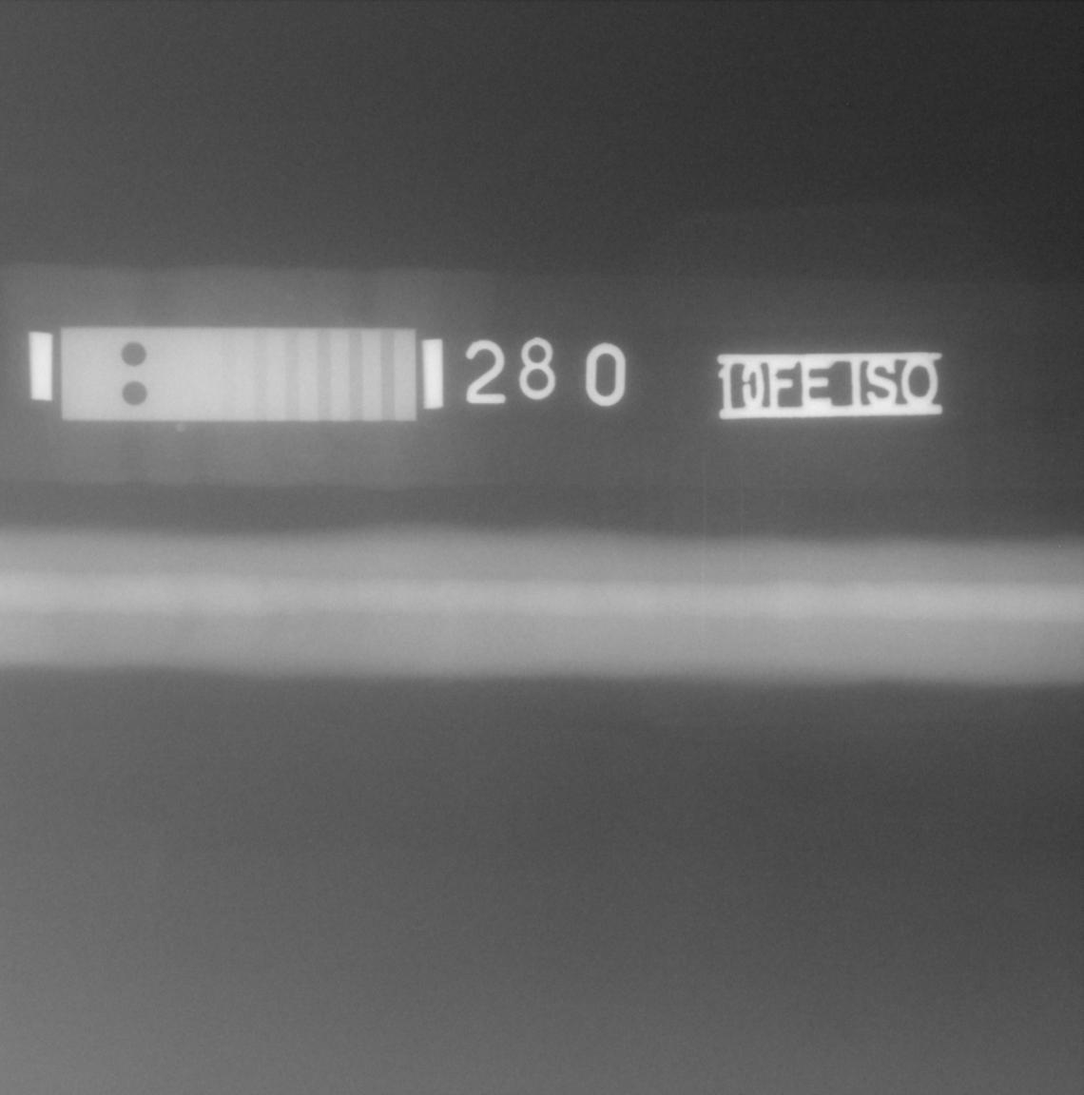Reference Standard 2: (61, 327, 417, 422)
